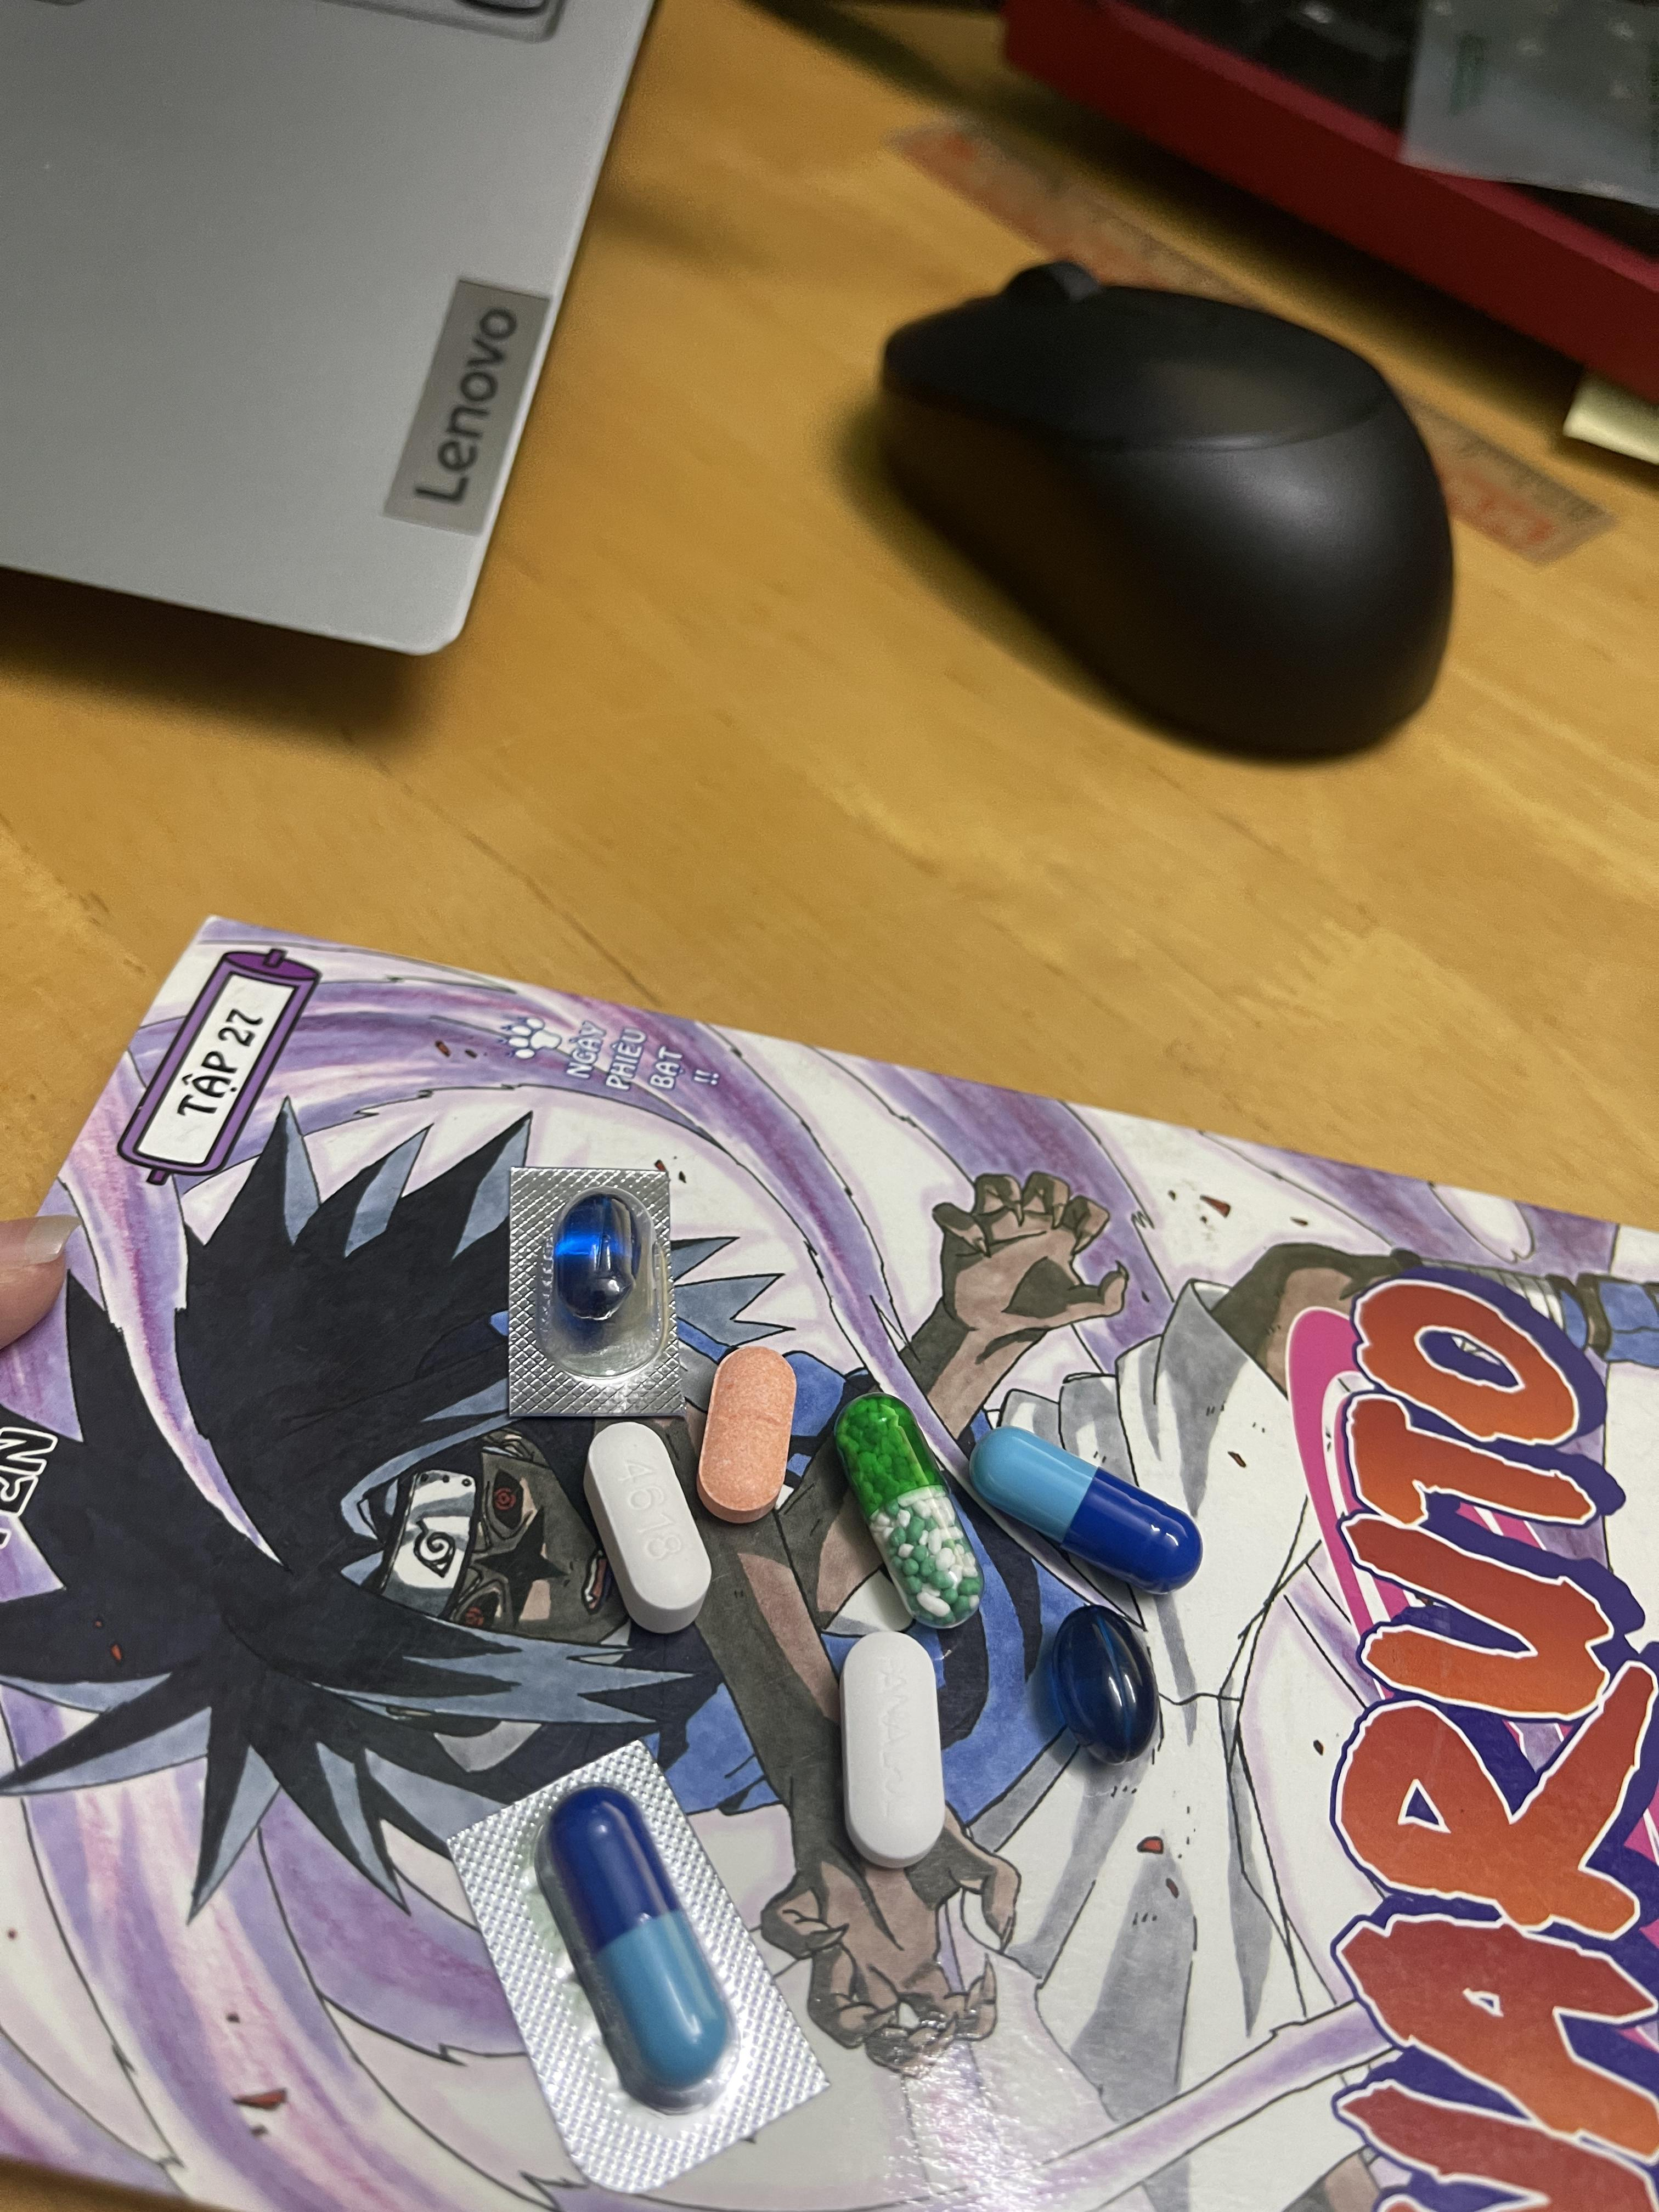Lincomyxin_500mg: (1047, 1604, 1159, 1764), (552, 1207, 633, 1322)
Loratadine_10mg: (699, 1350, 796, 1517)
Paracetamol_350mg: (840, 1632, 946, 1869)
Paracetamol_500mg: (584, 1420, 711, 1635)
Paracetamol_650mg: (828, 1393, 983, 1620)
pill: (547, 1794, 730, 2101), (978, 1425, 1206, 1597)
